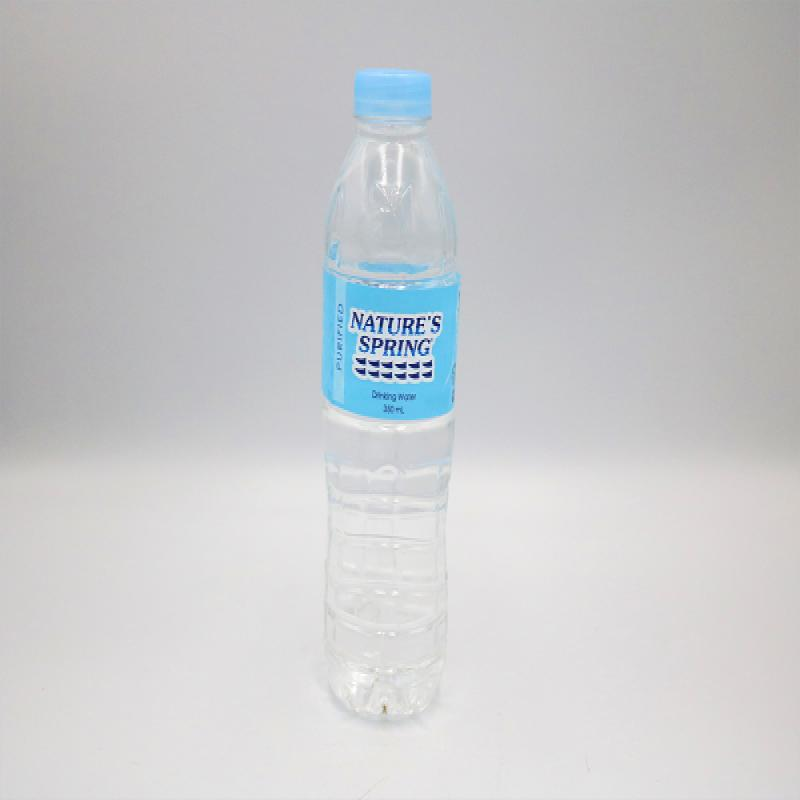plastic bottle: (320, 70, 461, 732)
